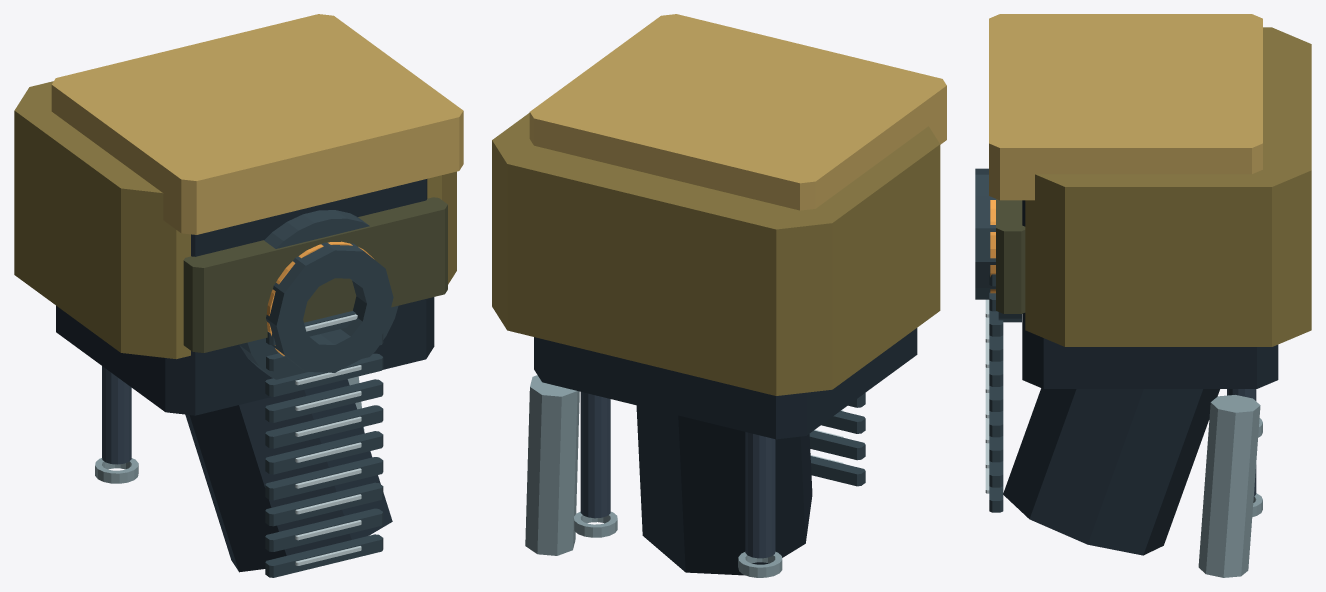
Rendered from enemy_gunner_4k_upper_arm_r.obj.
3 renders of one model, left to right at view 1: azimuth 30°, elevation 25°; view 2: azimuth 150°, elevation 25°; view 3: azimuth 270°, elevation 25°, orthographic. The views are drawn at different scales.
Bounding box in the file's own units: 0.62 × 0.8144 × 0.5525.
